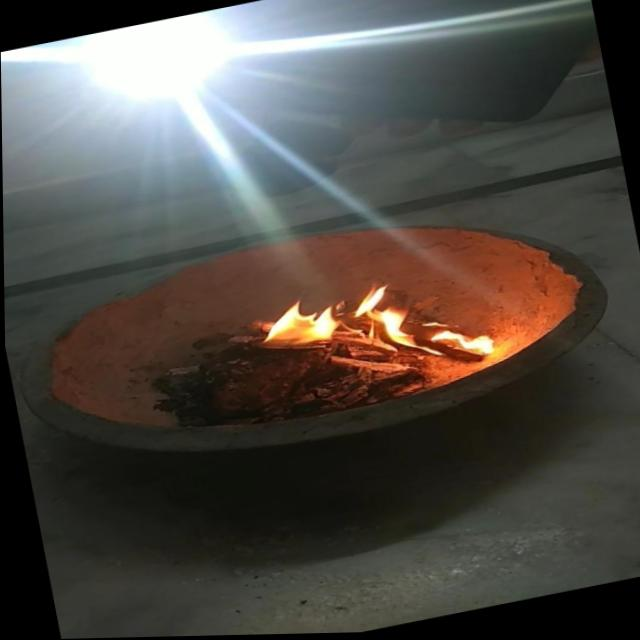fire: (259, 258, 500, 398)
